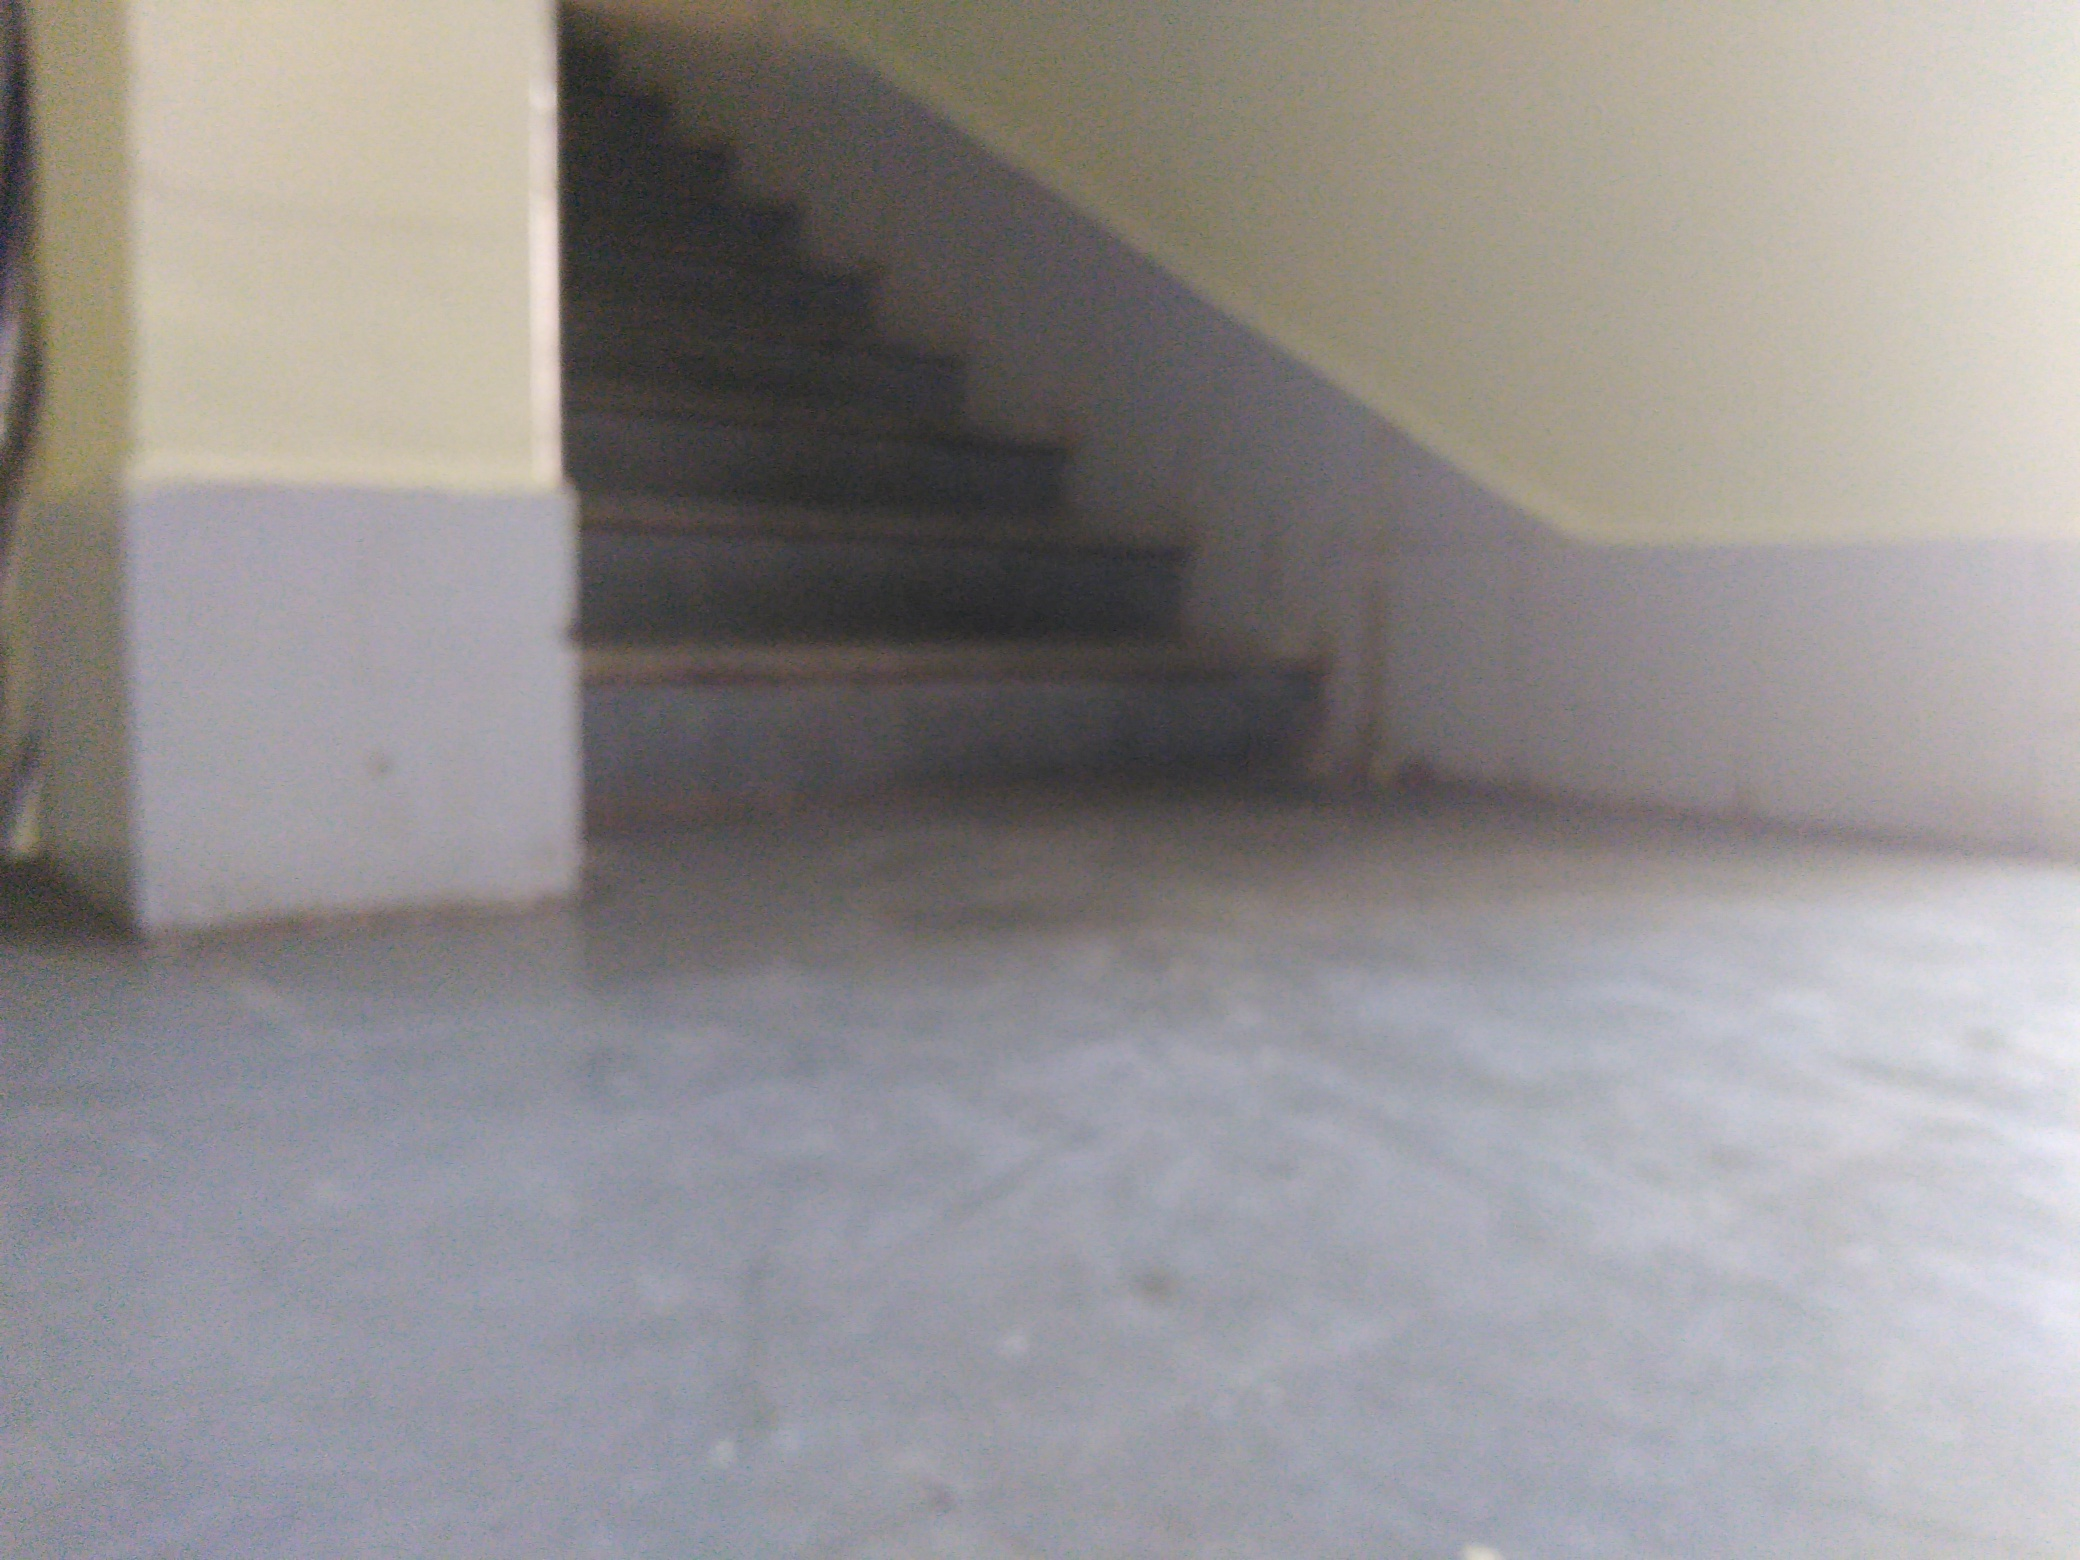stairs_up: (577, 107, 1312, 795)
